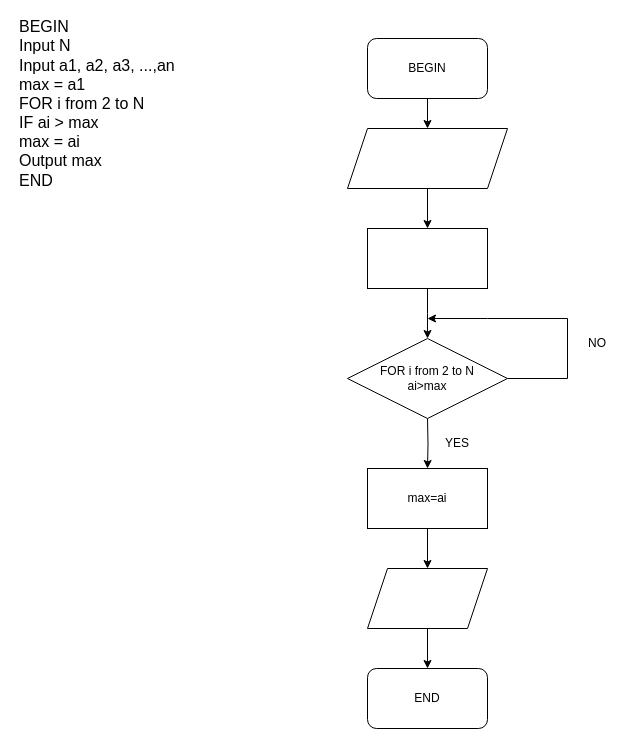
This 644x746 diagram has some shape labels left out. The shapes that lost their labels are listed below. From the top down, each one's centre as x and y in pixels, then its label:
At pixel 427 158: "Input N, a1, a2,...,an".
At pixel 427 258: "max=a1".
At pixel 427 598: "Output max".
